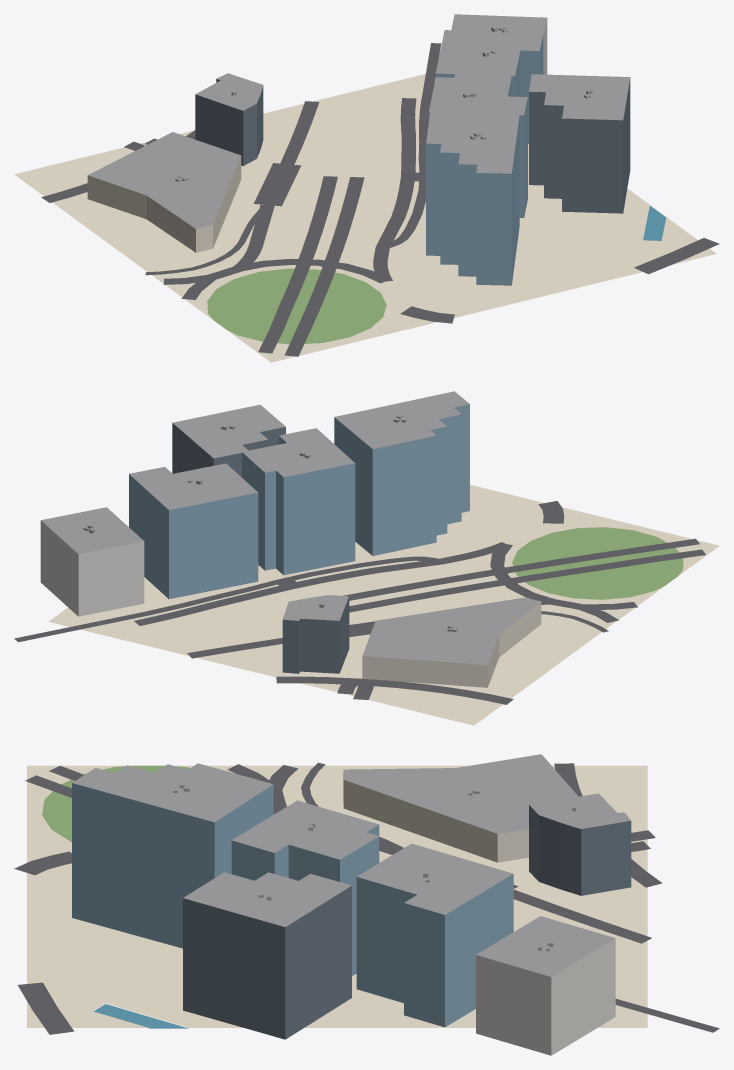
File: tile_0_6_far.glb
3 renders of one model, top to bottom at view 1: azimuth 30°, elevation 25°; view 2: azimuth 150°, elevation 25°; view 3: azimuth 270°, elevation 25°, orthographic. The views are drawn at different scales.
Visible parts, largest first — view 1: nature_ground, buildings_roof, roads_asphalt, buildings_glass_dark, buildings_glass_blue, nature_grass, buildings_concrete_warm, nature_water; view 2: nature_ground, buildings_glass_blue, buildings_roof, roads_asphalt, nature_grass, buildings_concrete_light, buildings_glass_dark, buildings_concrete_warm; view 3: buildings_glass_blue, buildings_roof, nature_ground, buildings_glass_dark, buildings_concrete_light, roads_asphalt, buildings_concrete_warm, nature_grass, nature_water.
Part boxes in pixels (bbox=[...]): nature_ground: bbox=[14, 74, 716, 362]; buildings_roof: bbox=[88, 14, 630, 228]; roads_asphalt: bbox=[41, 43, 719, 356]; buildings_glass_dark: bbox=[195, 78, 630, 213]; buildings_glass_blue: bbox=[426, 35, 543, 285]; nature_grass: bbox=[207, 268, 386, 344]; buildings_concrete_warm: bbox=[87, 156, 241, 252]; nature_water: bbox=[643, 205, 666, 240]; nature_ground: bbox=[48, 485, 719, 725]; buildings_glass_blue: bbox=[129, 404, 469, 599]; buildings_roof: bbox=[41, 391, 540, 664]; roads_asphalt: bbox=[14, 501, 705, 704]; nature_grass: bbox=[512, 527, 683, 599]; buildings_concrete_light: bbox=[40, 520, 144, 616]; buildings_glass_dark: bbox=[172, 423, 349, 673]; buildings_concrete_warm: bbox=[362, 602, 541, 687]; buildings_glass_blue: bbox=[72, 783, 513, 1027]; buildings_roof: bbox=[72, 754, 630, 976]; nature_ground: bbox=[27, 765, 647, 1027]; buildings_glass_dark: bbox=[183, 805, 631, 1039]; buildings_concrete_light: bbox=[476, 938, 615, 1055]; roads_asphalt: bbox=[14, 762, 719, 1034]; buildings_concrete_warm: bbox=[343, 774, 528, 862]; nature_grass: bbox=[42, 765, 189, 841]; nature_water: bbox=[93, 1004, 188, 1028].
Bounding box in the file's own units: 279 × 61.71 × 284.
